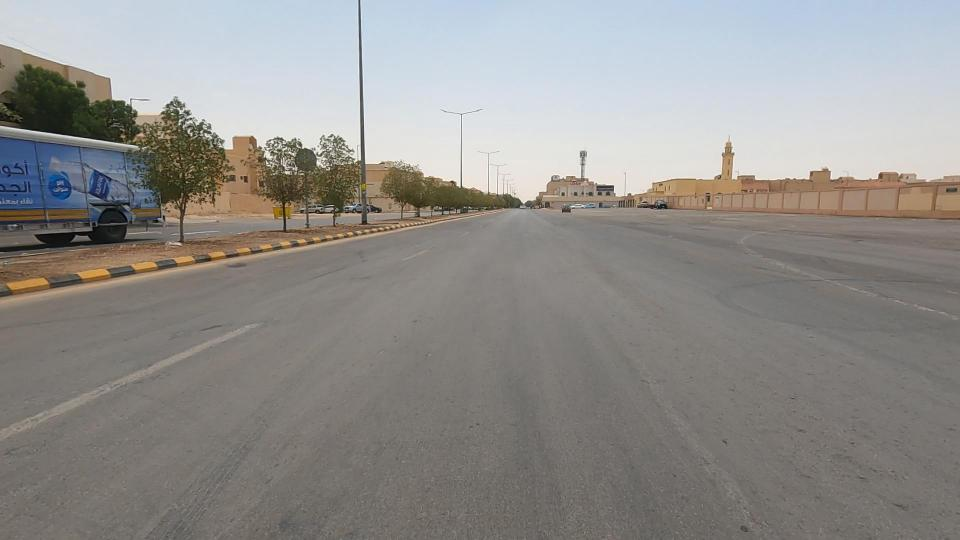GARBAGE: (118, 201, 226, 281)
